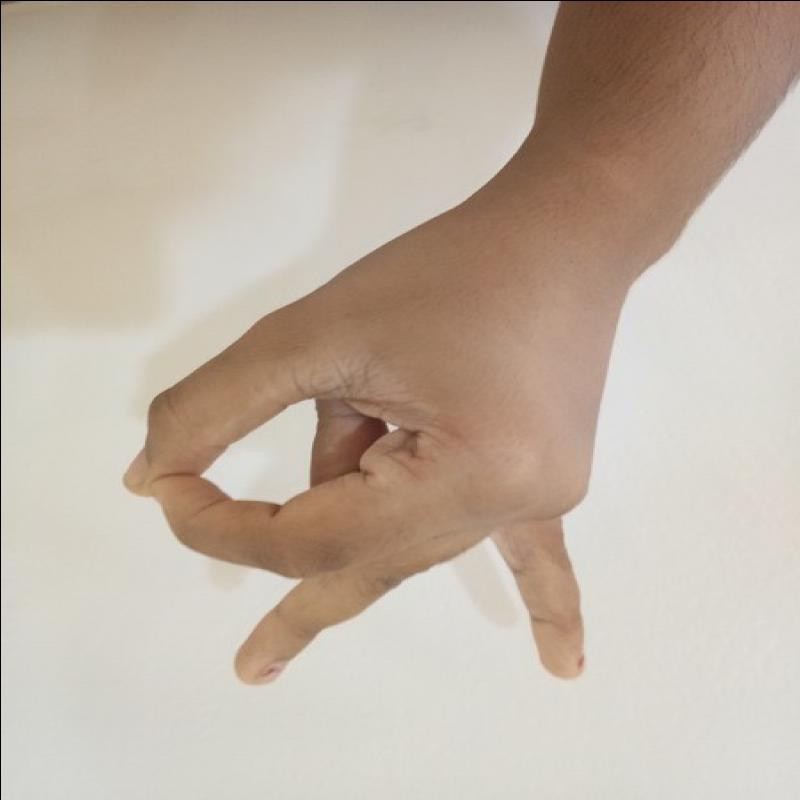Katakam: (103, 209, 635, 705)
